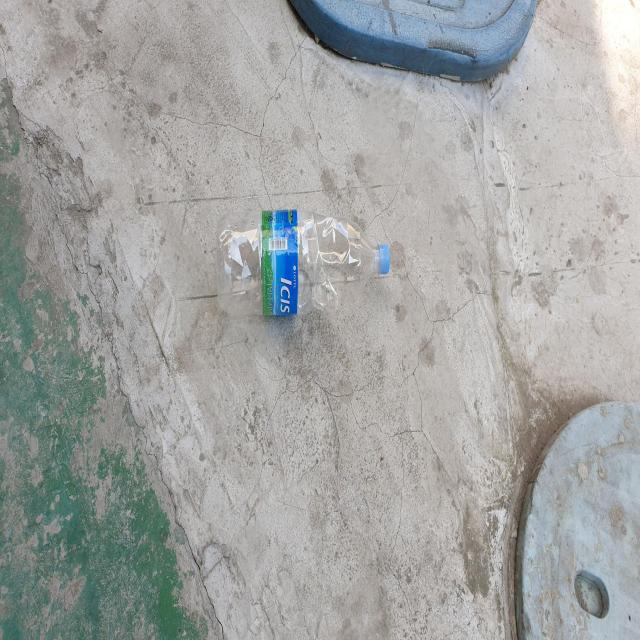plastic: (217, 209, 391, 317)
